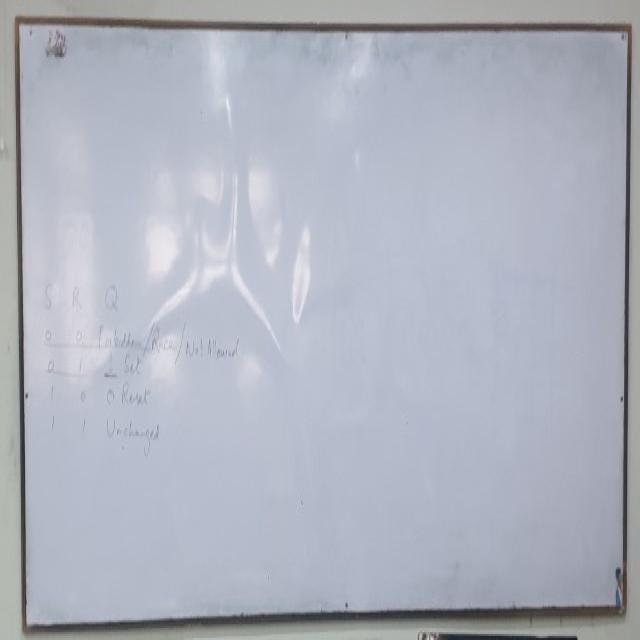White-board: (17, 17, 630, 628)
